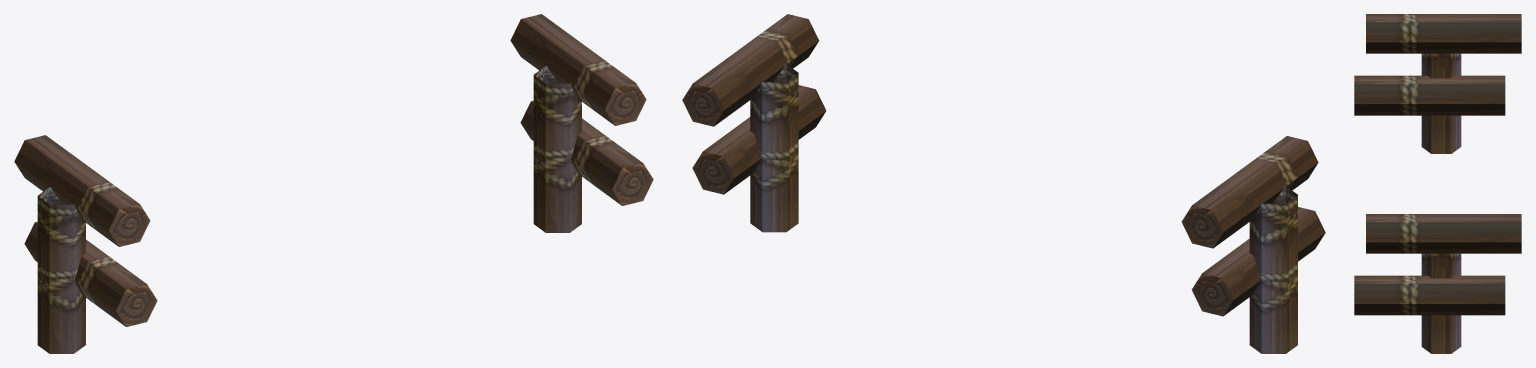
File: scenes_beach_road02b.FBX
The picture shows the model from 3 angles, left to right: view 1: azimuth 30°, elevation 25°; view 2: azimuth 150°, elevation 25°; view 3: azimuth 270°, elevation 25°; orthographic projection. The views are drawn at different scales.
Parts seen in each view (by area): view 1: scenes_beach_road02b; view 2: scenes_beach_road02b; view 3: scenes_beach_road02b.
Boxes of the visible parts, x1,y1,x2,y2 form: scenes_beach_road02b: [14, 14, 653, 353]; scenes_beach_road02b: [682, 14, 1325, 353]; scenes_beach_road02b: [1354, 14, 1521, 353].
Bounding box in the file's own units: 439 × 125 × 139.
